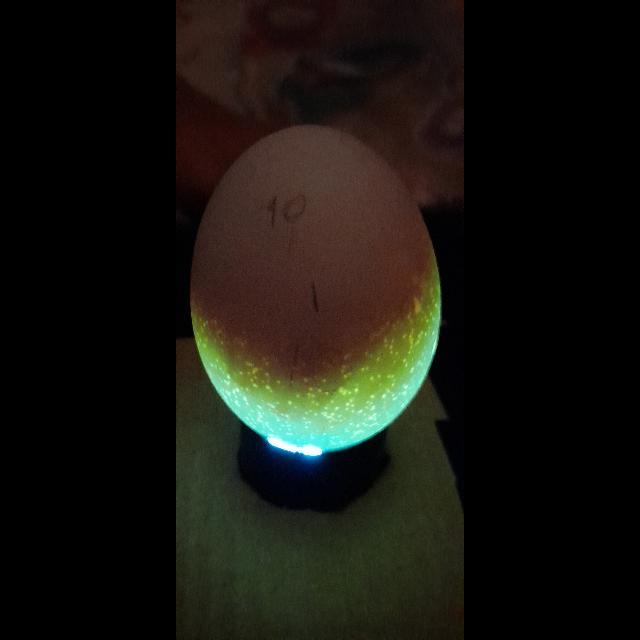Infertile: (190, 123, 448, 459)
